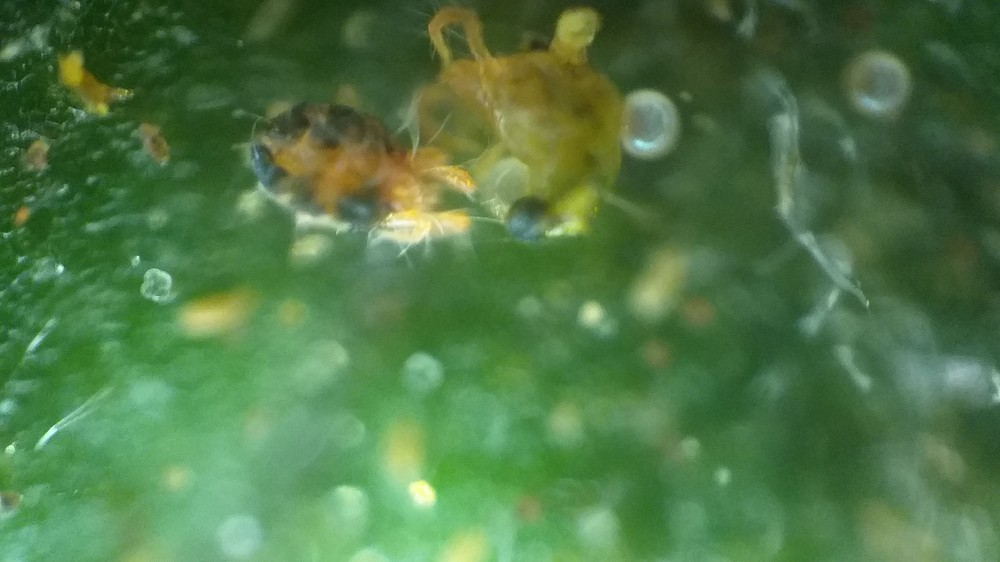Aracnido Rojo: (215, 90, 507, 289), (424, 1, 635, 271)
